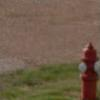Hydrant: (70, 33, 100, 100)
